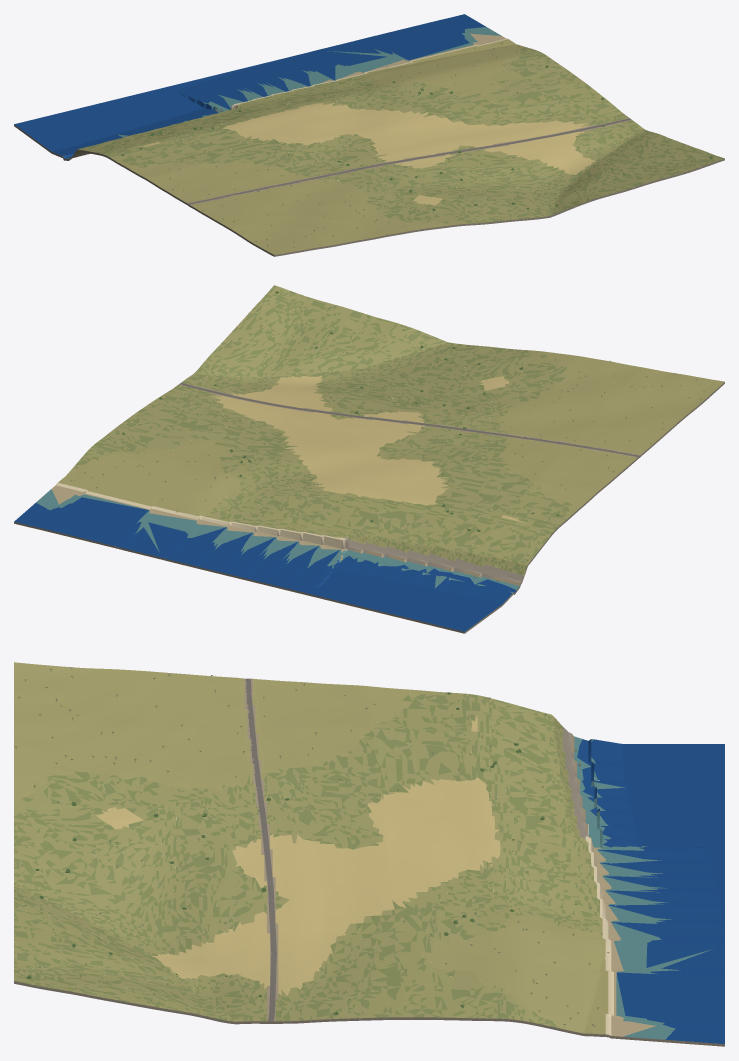
File: parca_+5_+2-yakin.glb
3 views of the same model, one above another, from view 1: azimuth 30°, elevation 25°; view 2: azimuth 150°, elevation 25°; view 3: azimuth 270°, elevation 25° (orthographic). The views are drawn at different scales.
Parts seen in each view (by area): view 1: parca_+5_+2_arazi, parca_+5_+2_yollar, parca_+5_+2_bitkiler; view 2: parca_+5_+2_arazi, parca_+5_+2_yollar, parca_+5_+2_bitkiler; view 3: parca_+5_+2_arazi, parca_+5_+2_yollar, parca_+5_+2_bitkiler.
Part boxes in pixels (bbox=[...]): parca_+5_+2_arazi: bbox=[14, 14, 724, 256]; parca_+5_+2_yollar: bbox=[188, 118, 631, 204]; parca_+5_+2_bitkiler: bbox=[82, 42, 712, 247]; parca_+5_+2_arazi: bbox=[14, 285, 724, 633]; parca_+5_+2_yollar: bbox=[179, 382, 639, 456]; parca_+5_+2_bitkiler: bbox=[70, 291, 704, 560]; parca_+5_+2_arazi: bbox=[14, 662, 724, 1046]; parca_+5_+2_yollar: bbox=[245, 678, 276, 1021]; parca_+5_+2_bitkiler: bbox=[15, 667, 609, 1026].
Size of the model in its own units: 1000 by 131 by 1000.
